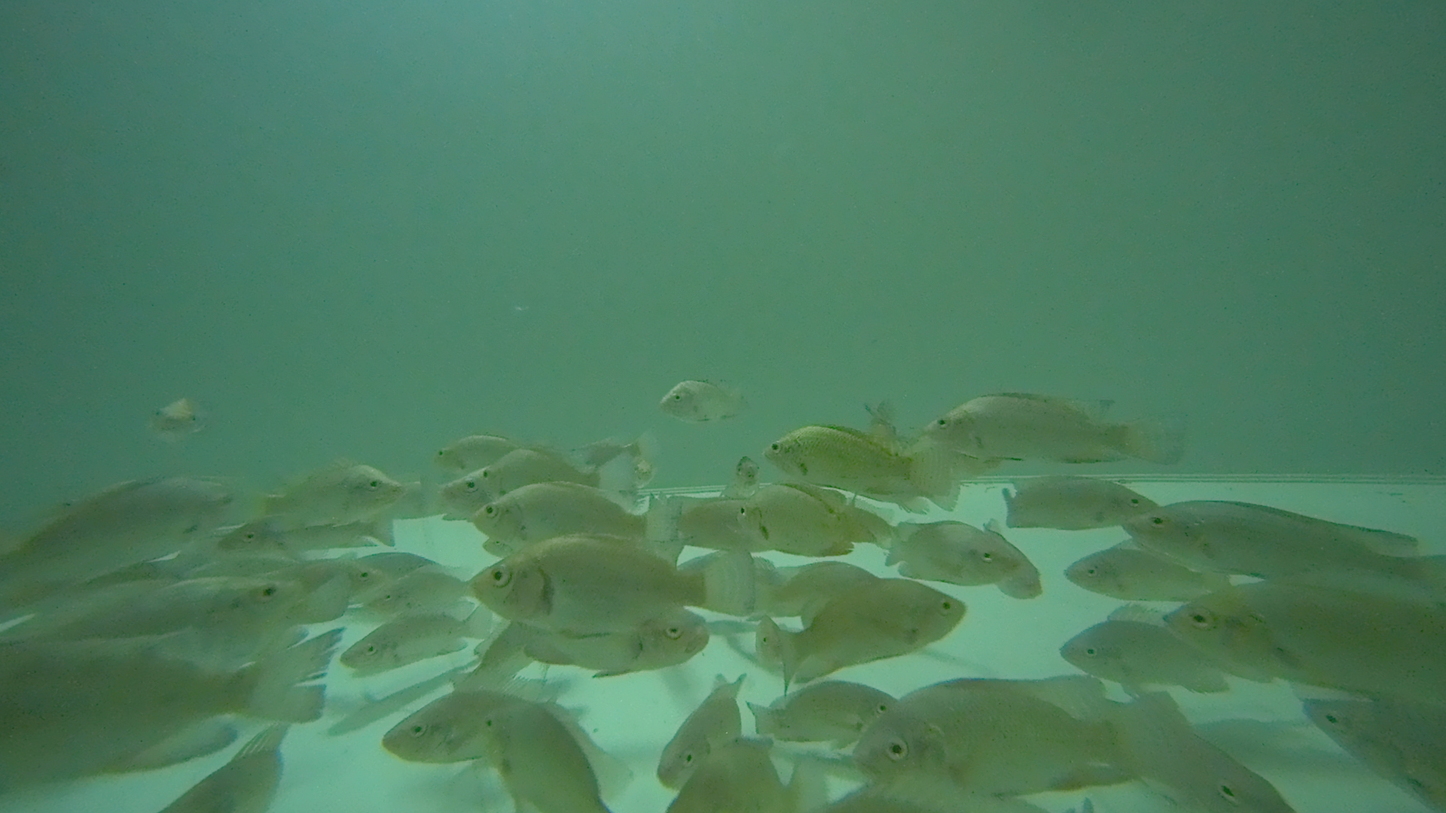fish: (463, 534, 755, 626), (922, 395, 1183, 467), (762, 424, 958, 498)
